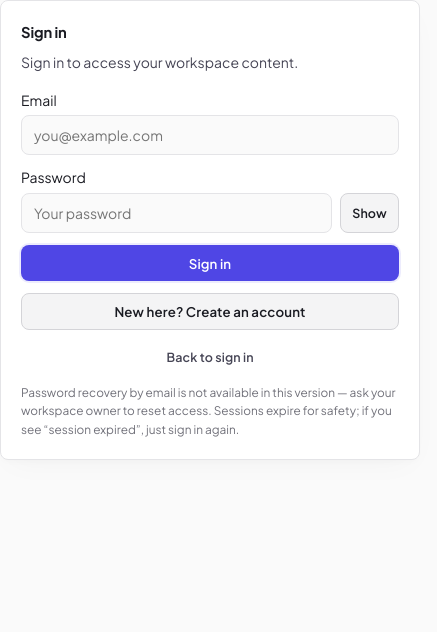
Test: LoginForm auth bootstrap › surfaces server field details on weak-password registration (R202610011556-D-001)
Click the button "New here? Create an account". click: point(210, 312)
box: [21,294,399,330]
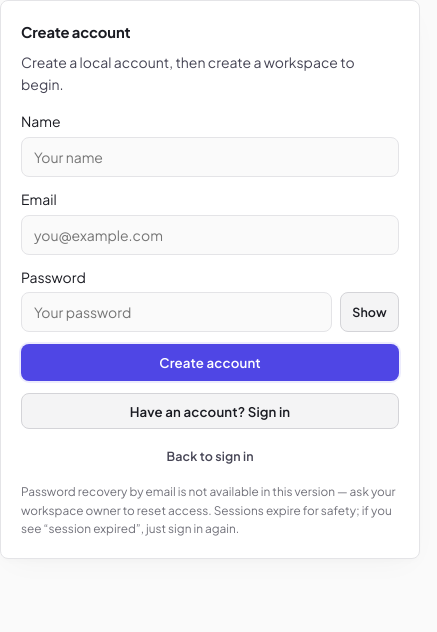
Type "T" into the field with placeholder "Your name". click: point(210, 157)
box: [21,137,399,177]
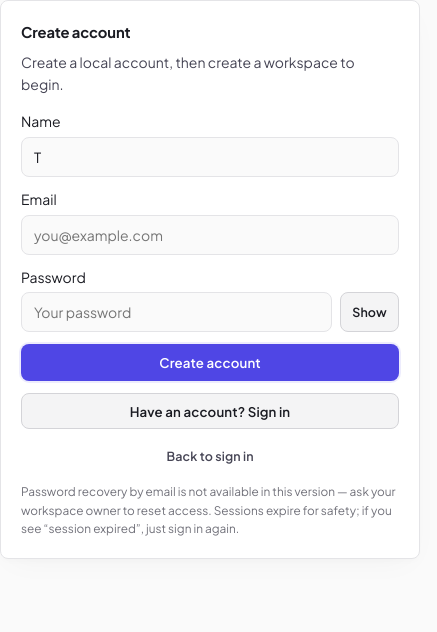
Type "badpw@example.com" into the field with placeholder "you@example.com". click: point(210, 235)
box: [21,215,399,255]
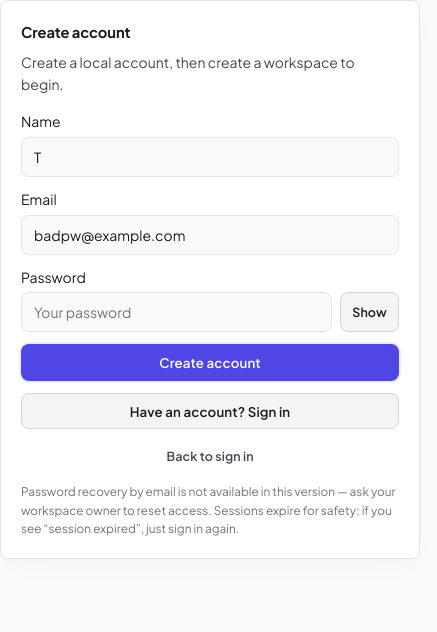
Type "123" into the password field with placeholder "Your password". click: point(177, 312)
box: [21,292,332,332]
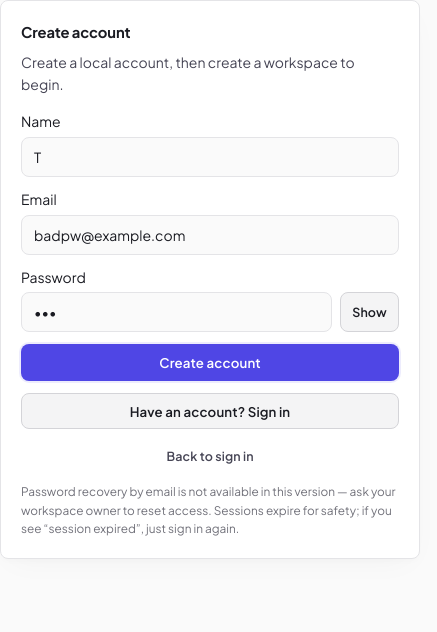
Click the button "Create account". click: point(210, 363)
box: [21,344,399,381]
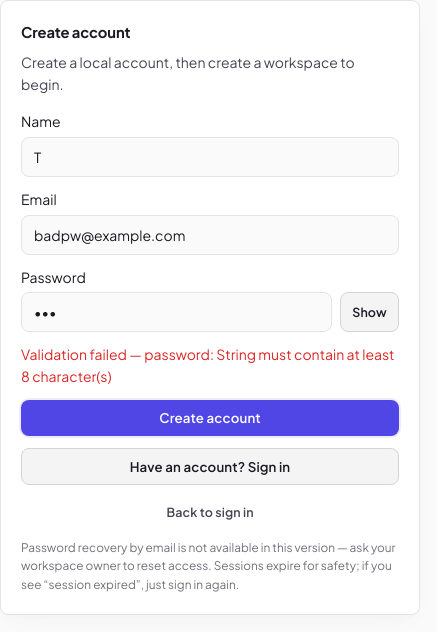
Result: the text "Validation failed — password: String must contain at least 8 character(s)" is shown at [21,344,399,388]
